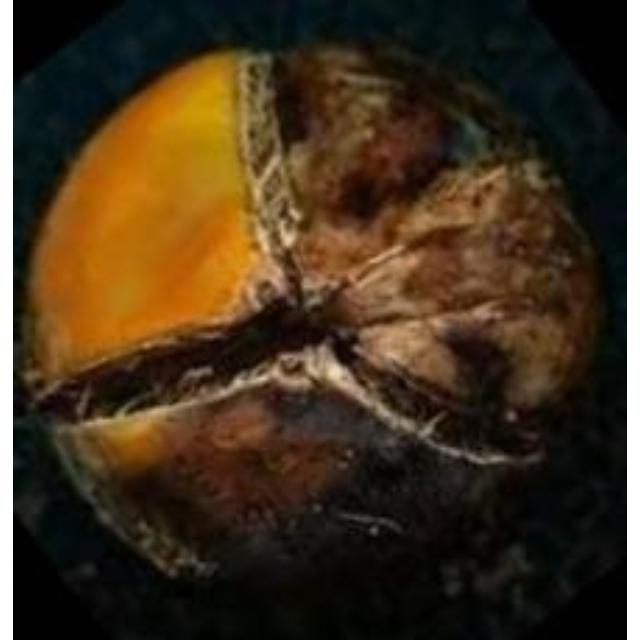damaged: (27, 45, 603, 598)
